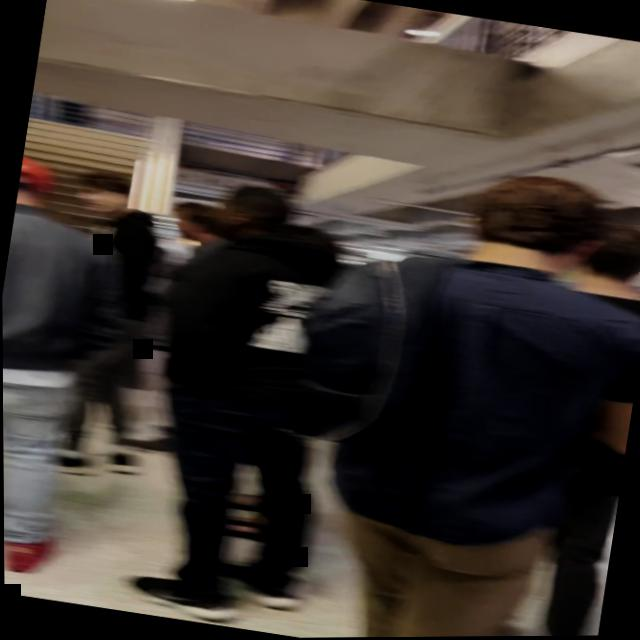NO-Mask: (75, 182, 113, 214), (173, 214, 198, 238)
